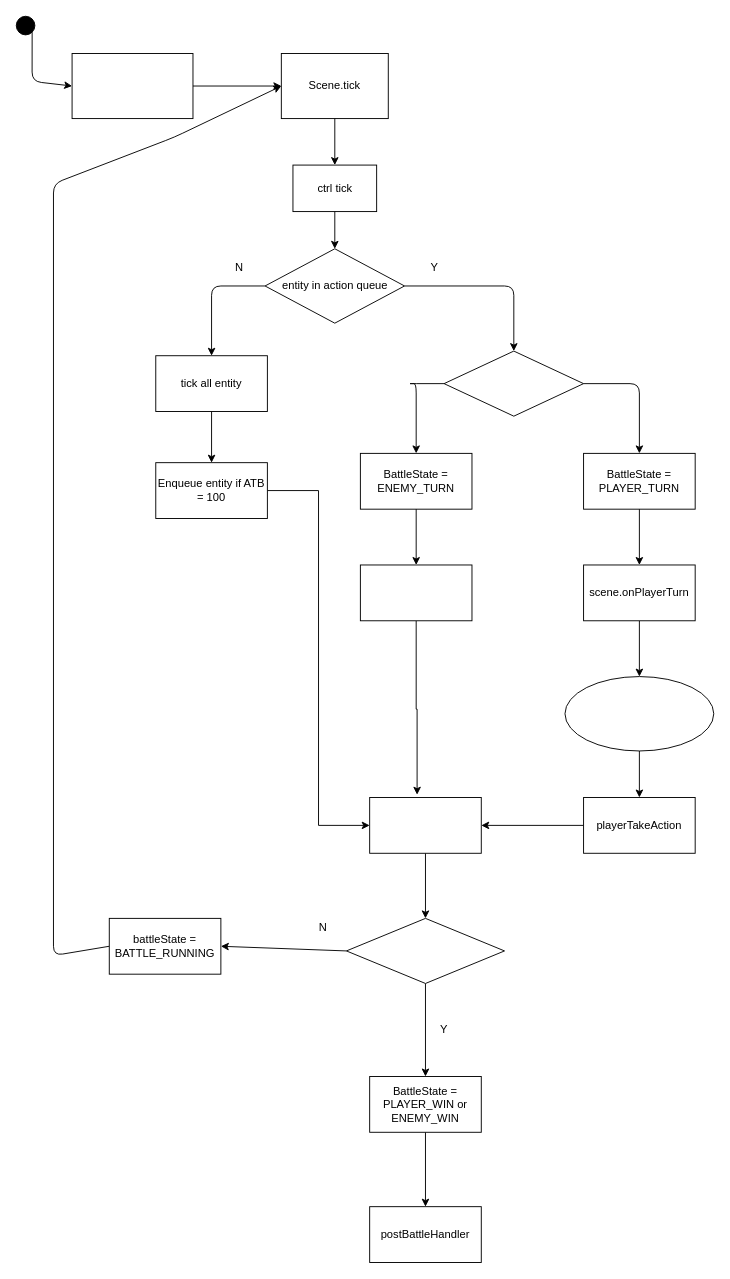
This 730x1279 diagram has some shape labels left out. The centre of each missing label's shape, as x and y in pixels:
Enemy.takeAction: (x=415, y=592)
entity is player: (x=513, y=383)
Get player input (select action type, select enemy/player): (x=639, y=713)
one friction lose: (x=425, y=950)
Scene.prepareBattle: (x=132, y=86)
updateBattleState: (x=425, y=825)
